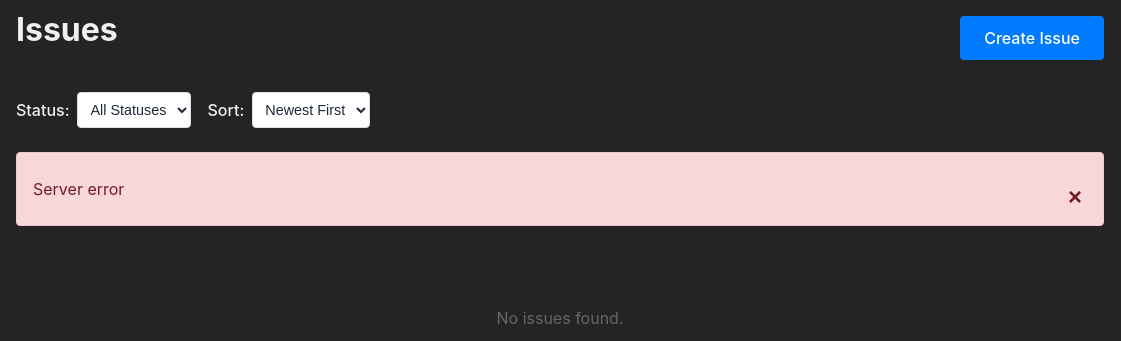
Test: IssueListPage › error handling › clears error when dismiss button is clicked
Expected: the text "Server error" is shown, [33,179,124,199]
Click the button named "Dismiss error".
click(1075, 197)  # box [1063,185,1087,209]
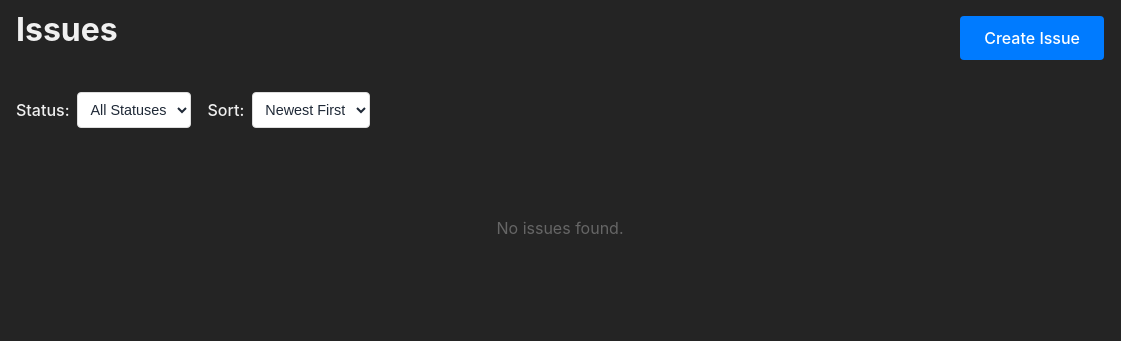
Now the text "Server error" is gone
